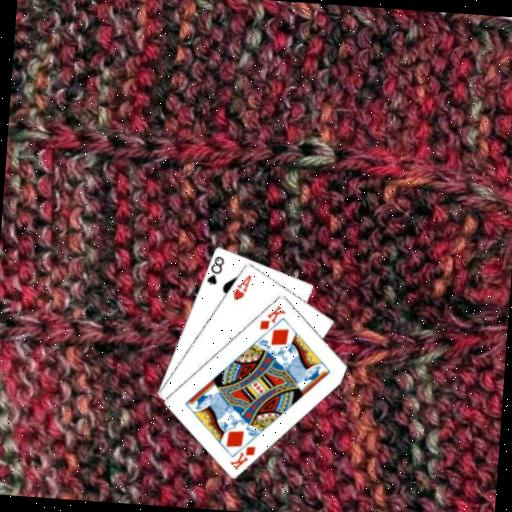8S: (204, 252, 227, 287)
AH: (230, 270, 254, 303)
KD: (256, 301, 288, 333), (226, 441, 257, 473)
